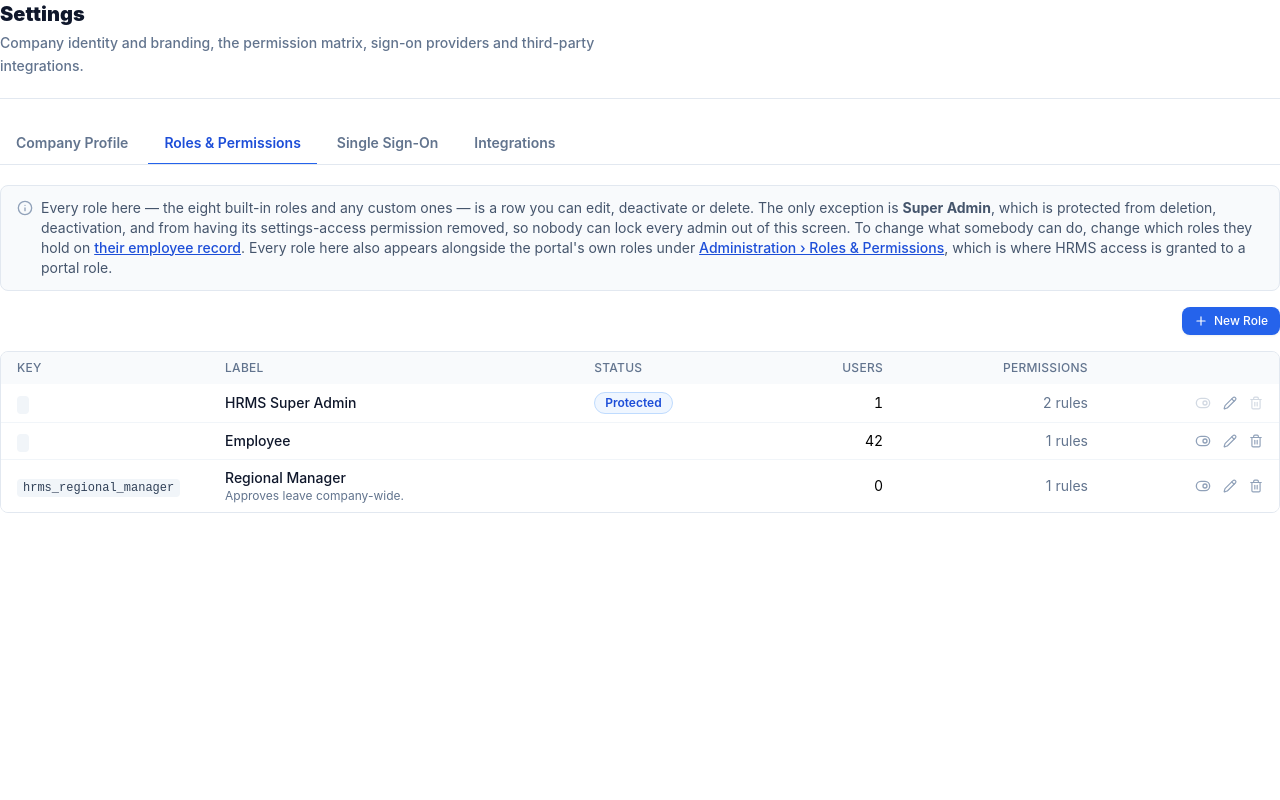
it: roles and permissions › reports missing required fields inline rather than silently refusing
expect the text "Regional Manager" is shown: met, box left=225, top=468, right=346, bottom=486
Click the button "New Role".
click(1231, 320)  # box left=1182, top=306, right=1279, bottom=334
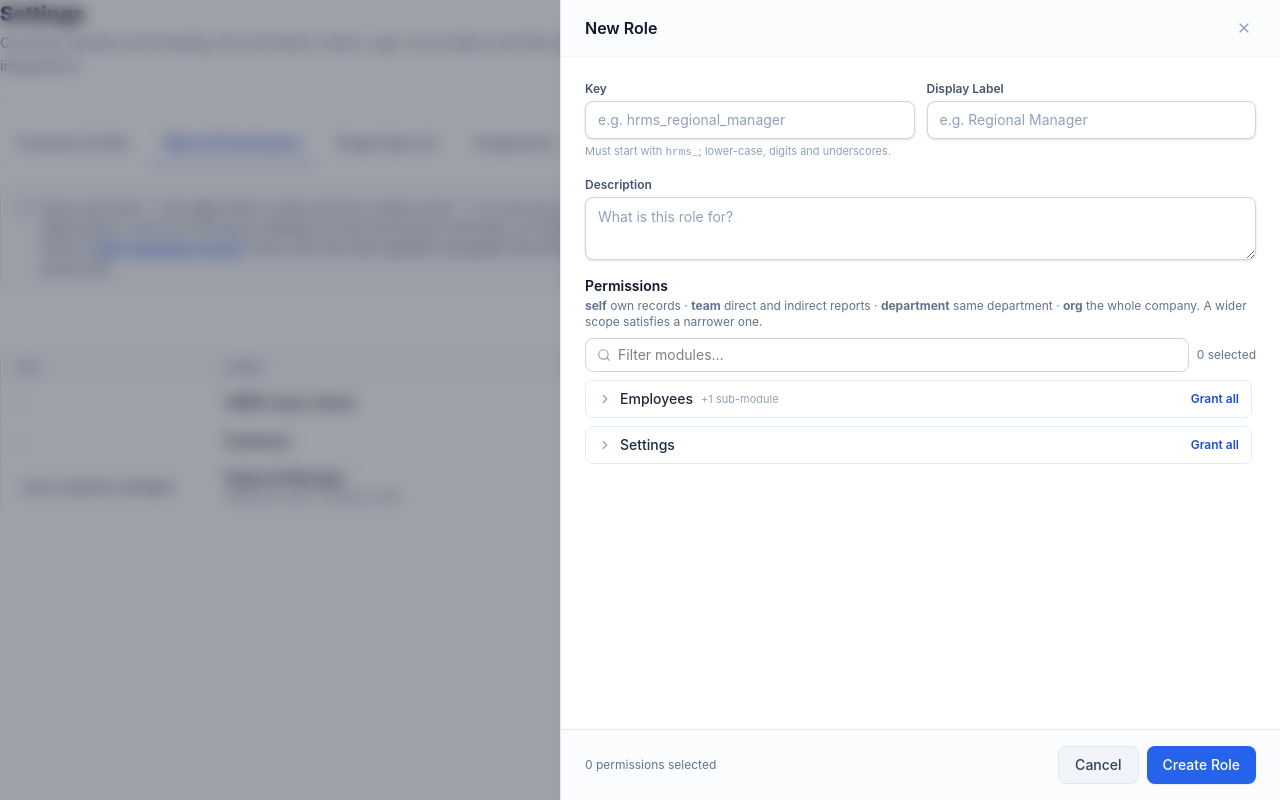
Click the button "Create Role".
click(1201, 765)  # box left=1147, top=746, right=1256, bottom=784
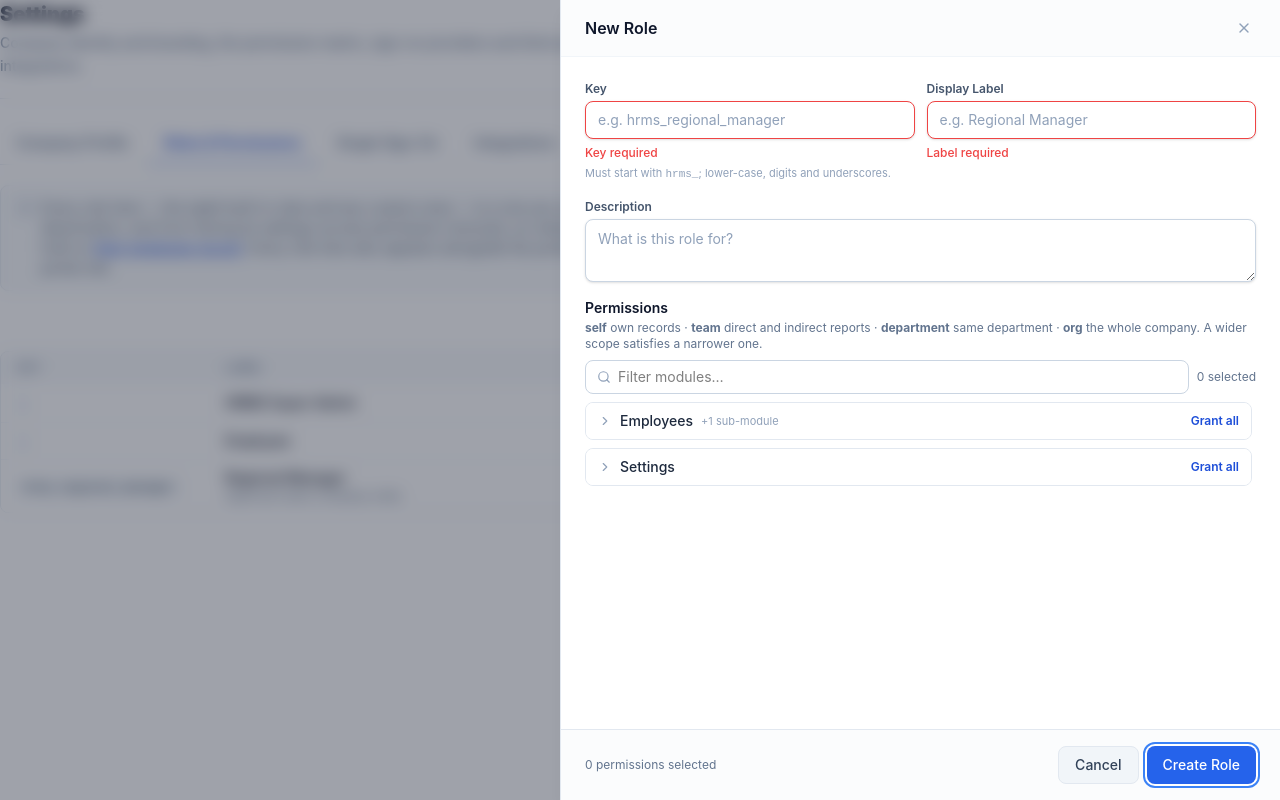
expect the text "Key required" is shown: met, box left=585, top=145, right=658, bottom=160
expect the text "Label required" is shown: met, box left=926, top=145, right=1009, bottom=160
Note: And the message clears as soon as the field is filled in.
Type "hrms_x" into the field labelled "Key".
click(750, 120); type("hrms_x")  # box left=585, top=101, right=914, bottom=139
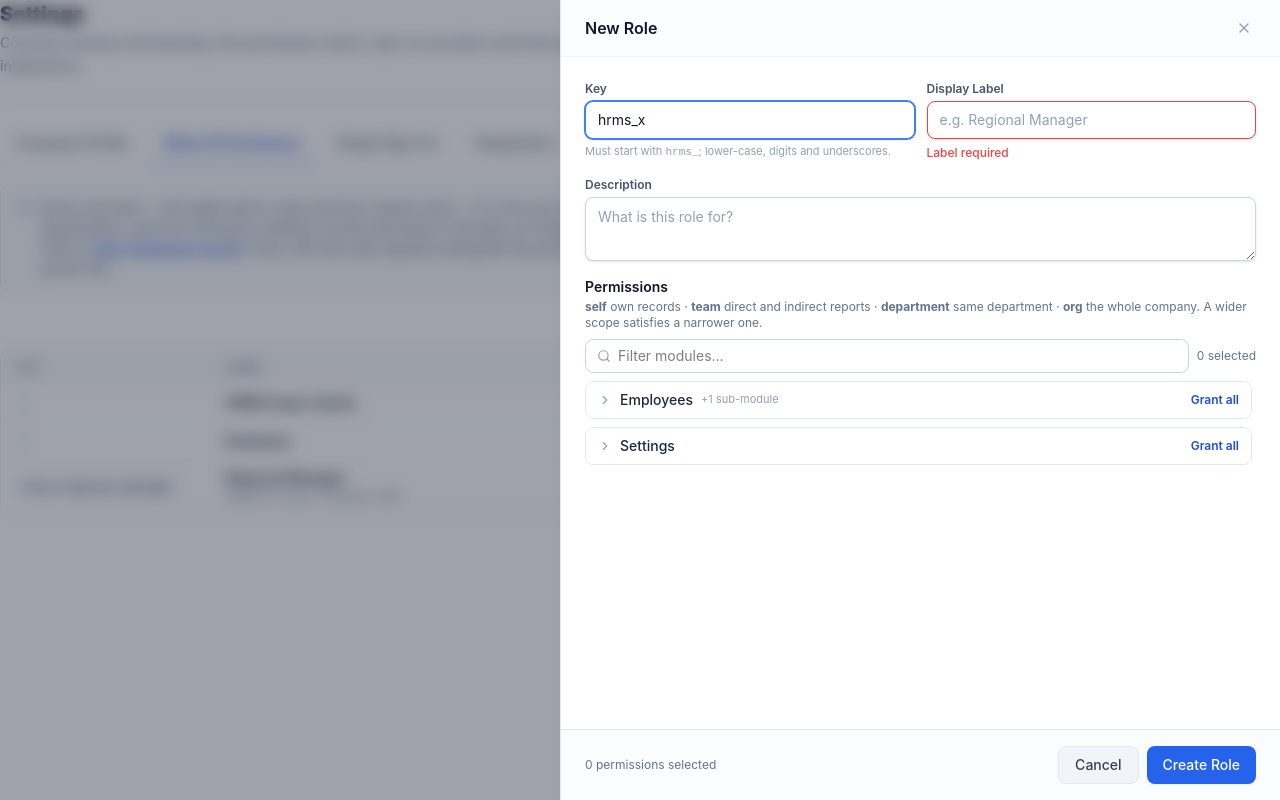
expect the text "Key required" is gone: met
